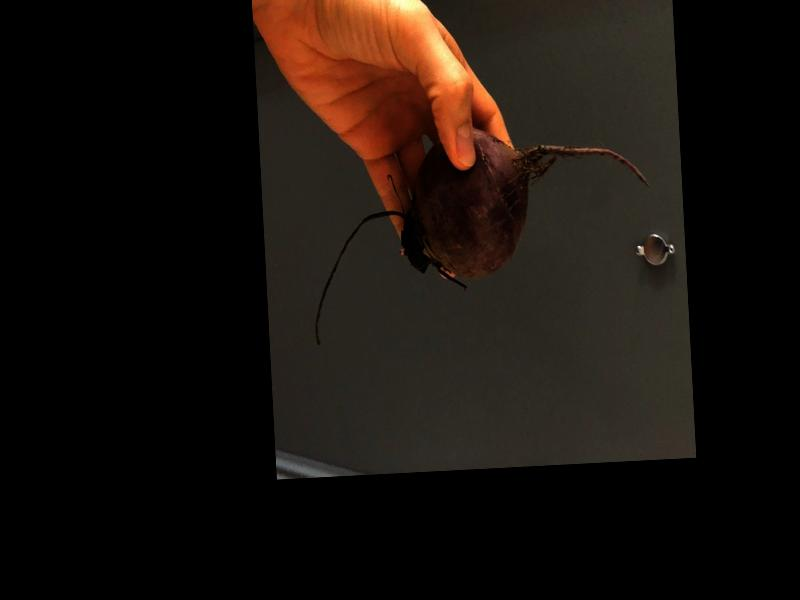Beet: (305, 119, 655, 347)
